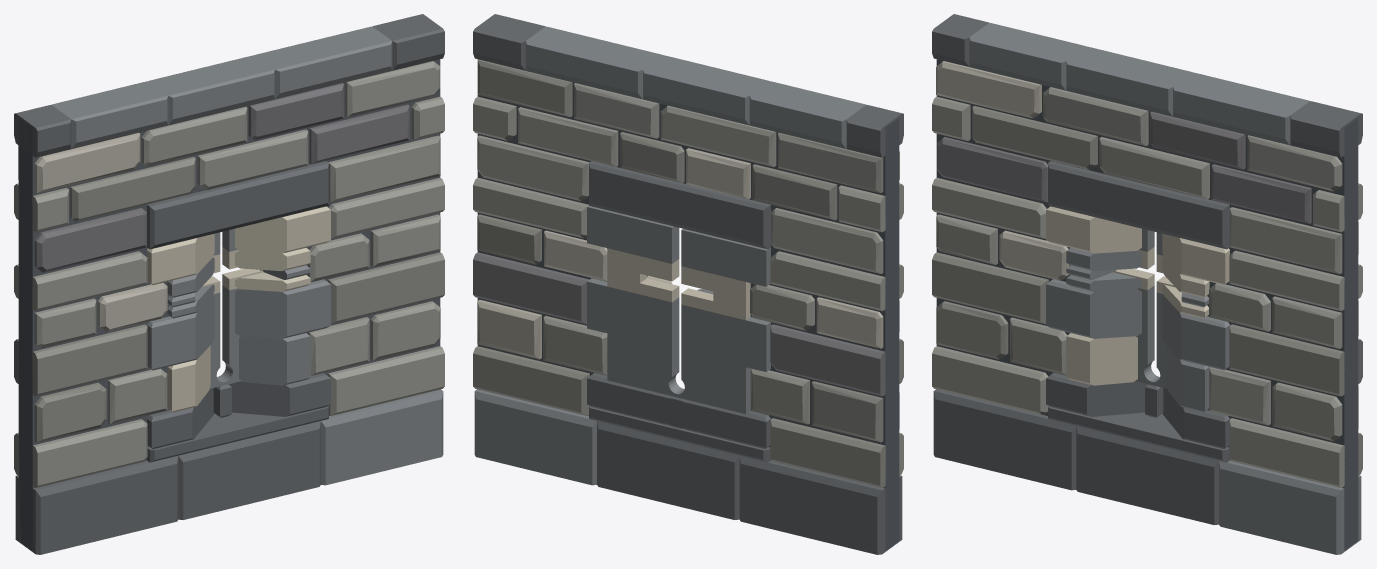
Rendered from SM_LPD_Struct_WallWindowCrossLoop_01.fbx.
3 renders of one model, left to right at view 1: azimuth 30°, elevation 25°; view 2: azimuth 150°, elevation 25°; view 3: azimuth 330°, elevation 25°, orthographic.
Parts seen in each view (by area): view 1: SM_LPD_Struct_WallWindowCrossLoop_01; view 2: SM_LPD_Struct_WallWindowCrossLoop_01; view 3: SM_LPD_Struct_WallWindowCrossLoop_01.
Boxes of the visible parts, x1,y1,x2,y2 form: SM_LPD_Struct_WallWindowCrossLoop_01: (14,14,444,554); SM_LPD_Struct_WallWindowCrossLoop_01: (473,14,903,554); SM_LPD_Struct_WallWindowCrossLoop_01: (932,14,1362,554).
Size of the model in its own units: 4 by 4 by 0.4.
